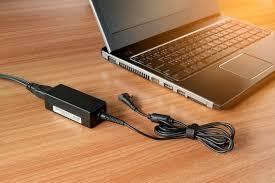charger: (0, 74, 235, 153)
laptop: (91, 0, 275, 109)
